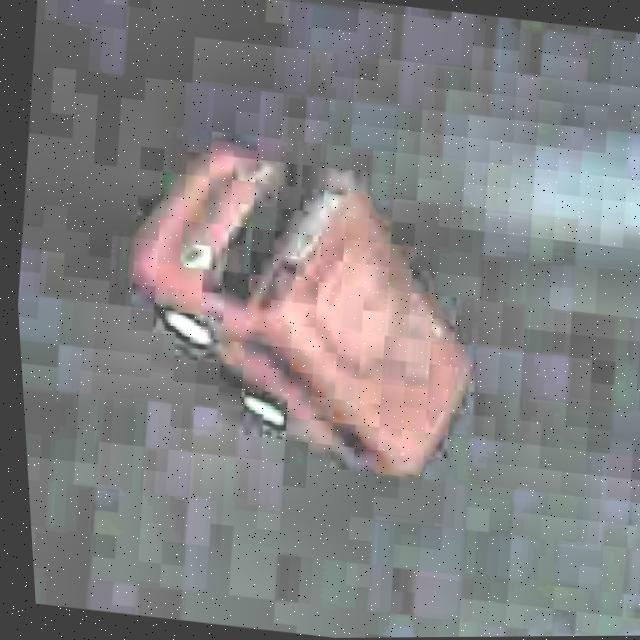bus: (81, 116, 533, 507)
